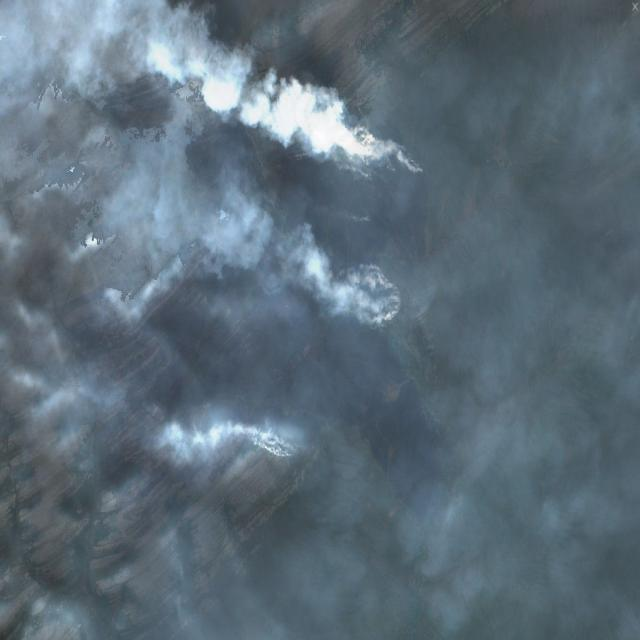fire: (318, 98, 426, 354), (252, 424, 310, 478)
